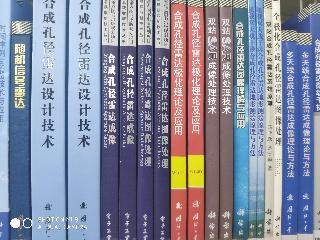book-spine: (31, 1, 66, 238), (69, 1, 101, 240), (10, 22, 31, 239), (137, 0, 154, 240), (119, 1, 136, 239), (101, 2, 118, 239), (187, 1, 203, 239), (154, 1, 168, 239), (172, 1, 186, 239), (282, 31, 297, 240), (234, 1, 247, 239), (297, 34, 312, 239), (205, 2, 218, 238), (220, 0, 232, 239), (271, 1, 283, 240), (0, 1, 10, 239), (264, 2, 273, 240), (257, 1, 264, 239), (249, 0, 255, 239)
